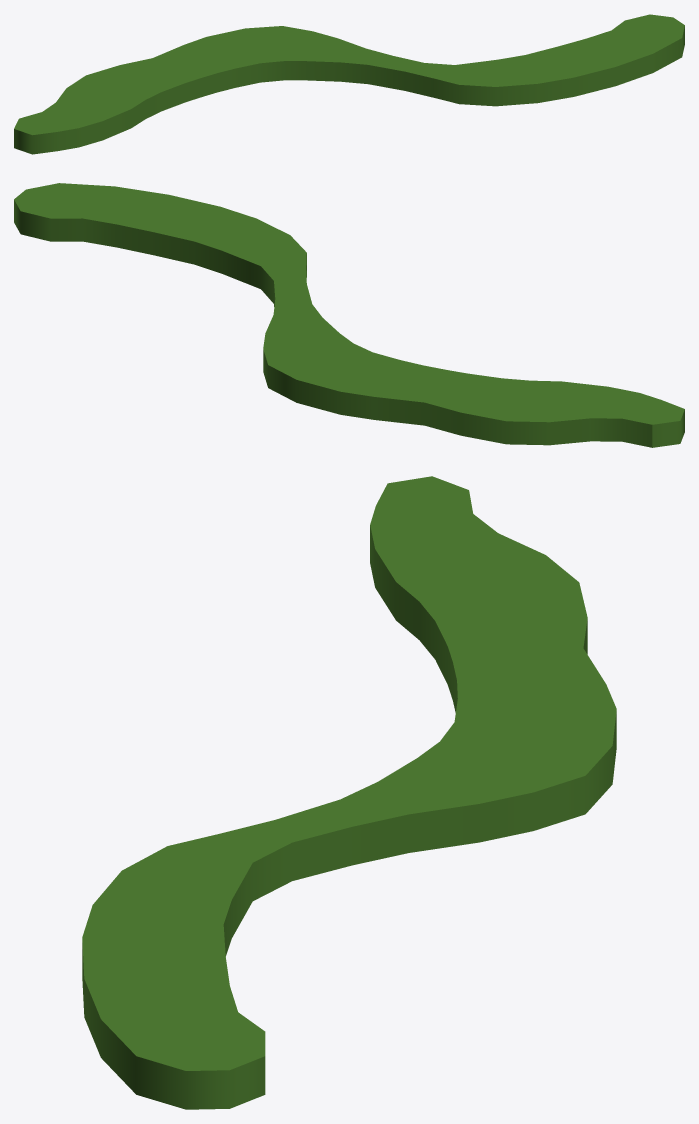
The model's file is Islands_06.fbx.
3 views of the same model, one above another, from view 1: azimuth 30°, elevation 25°; view 2: azimuth 150°, elevation 25°; view 3: azimuth 270°, elevation 25° (orthographic). The views are drawn at different scales.
Parts seen in each view (by area): view 1: Island_06; view 2: Island_06; view 3: Island_06.
Boxes of the visible parts, x1,y1,x2,y2 form: Island_06: [14, 14, 684, 154]; Island_06: [14, 183, 684, 447]; Island_06: [82, 476, 616, 1109].
Bounding box in the file's own units: 5051 × 153 × 1918.
